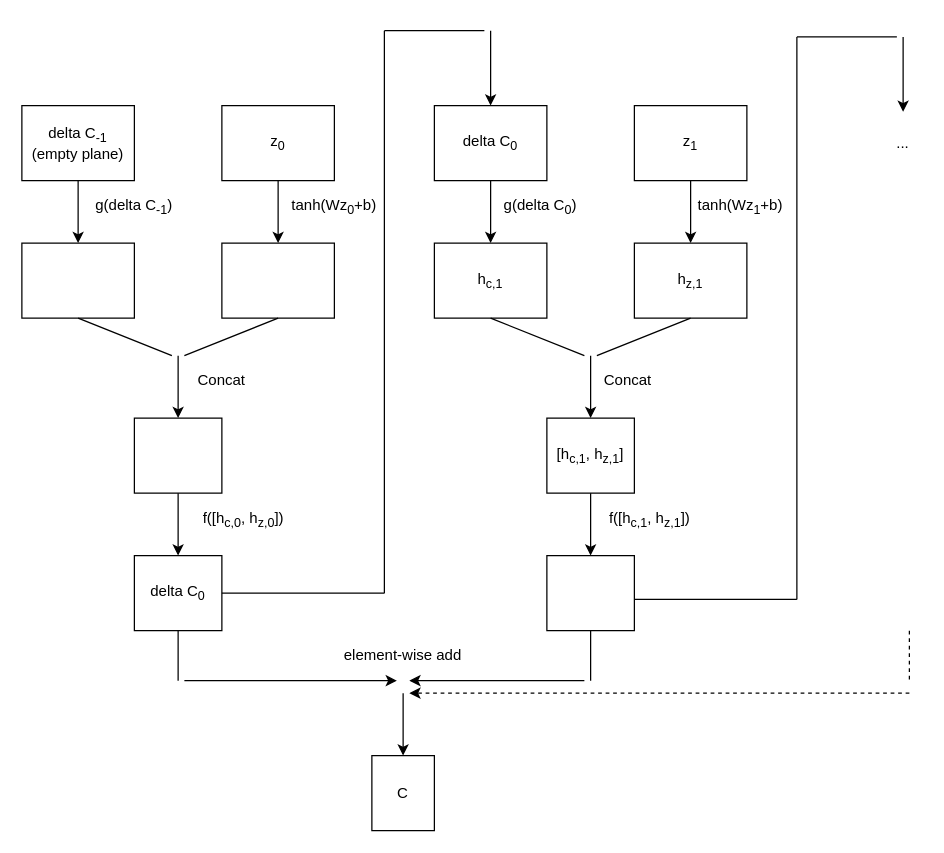
Image size: 944x853. Some labels were removed from this diagram. Each missing label, with the box of its shape:
[h c,0 , h z,0 ]: (133, 417, 222, 493)
delta C 1: (546, 554, 634, 631)
h c,0: (21, 242, 134, 318)
h z,0: (221, 242, 334, 318)
